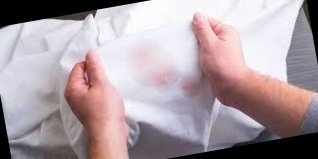wine: (119, 37, 181, 98), (171, 73, 206, 103)
